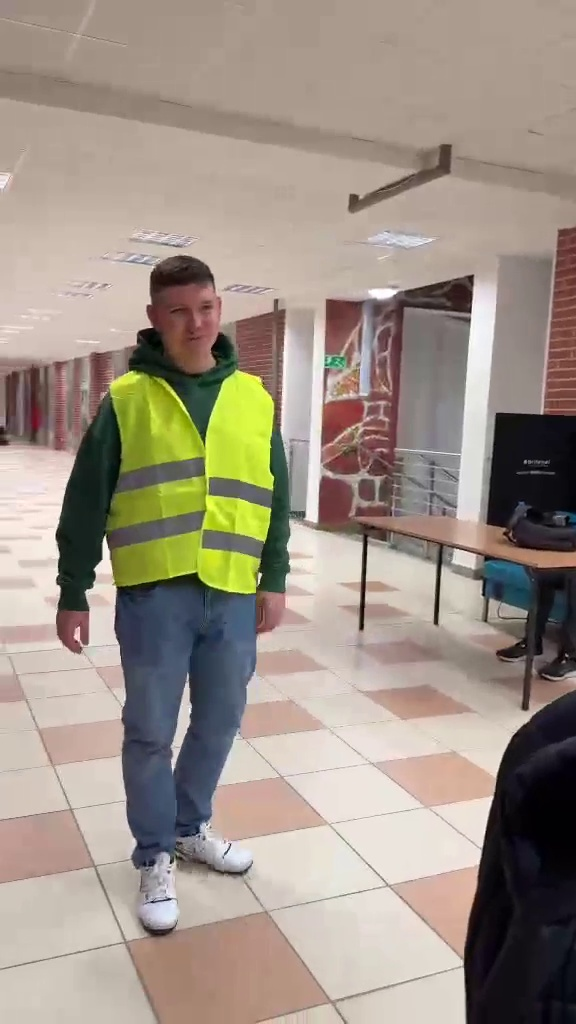vest: (53, 250, 288, 938)
